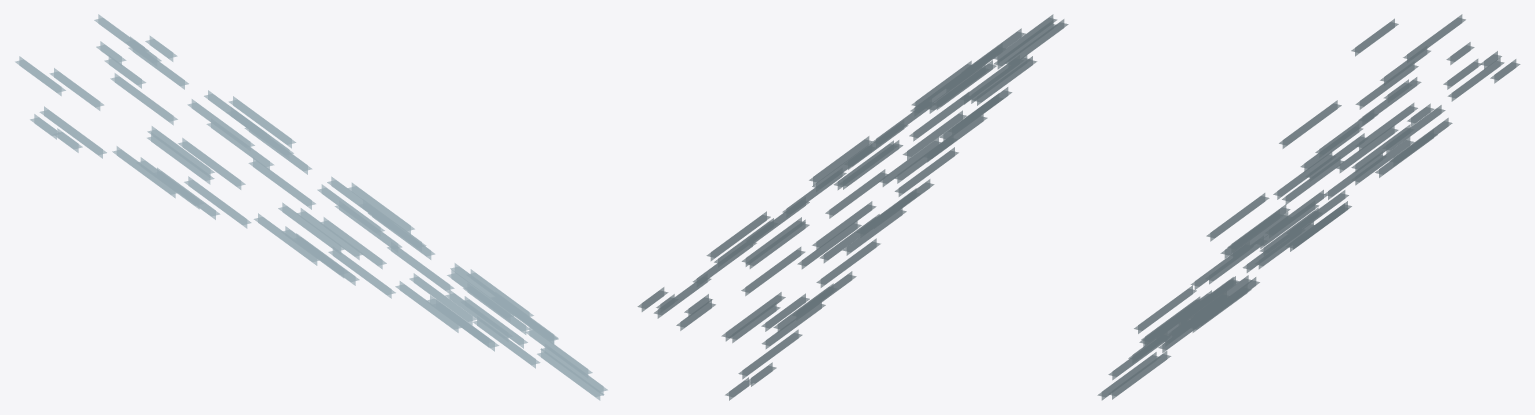
File: wp_water_318.obj
3 views of the same model, side by side, from view 1: azimuth 30°, elevation 25°; view 2: azimuth 150°, elevation 25°; view 3: azimuth 330°, elevation 25° (orthographic). The views are drawn at different scales.
Size of the model in its own units: 0.366 by 0.2628 by 1.82.
1 material, 1 textured.
